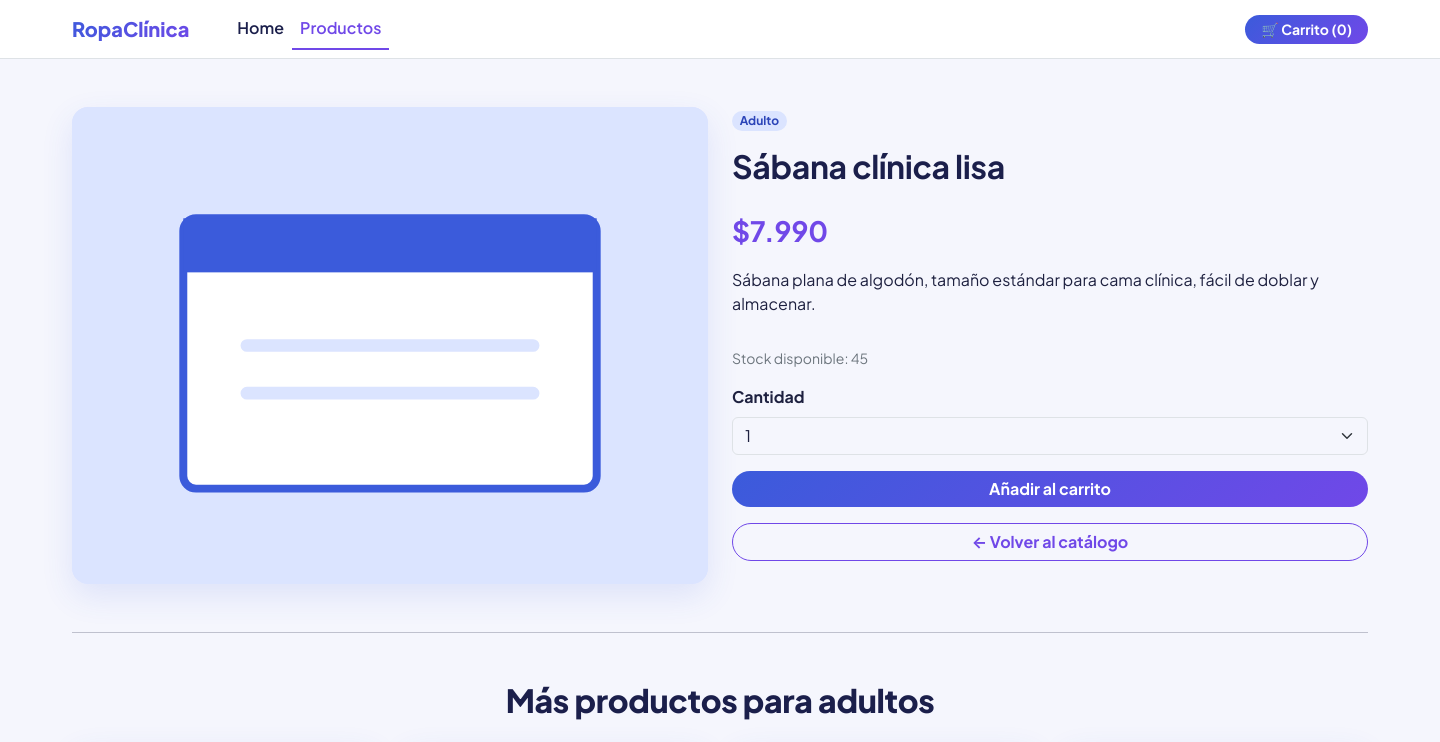
Carrito (estado) › añadir un producto actualiza el contador y el total
This screenshot has width=1440, height=742.
Click the button "Añadir al carrito".
click(1050, 489)  # box x1=732 y1=471 x2=1368 y2=507
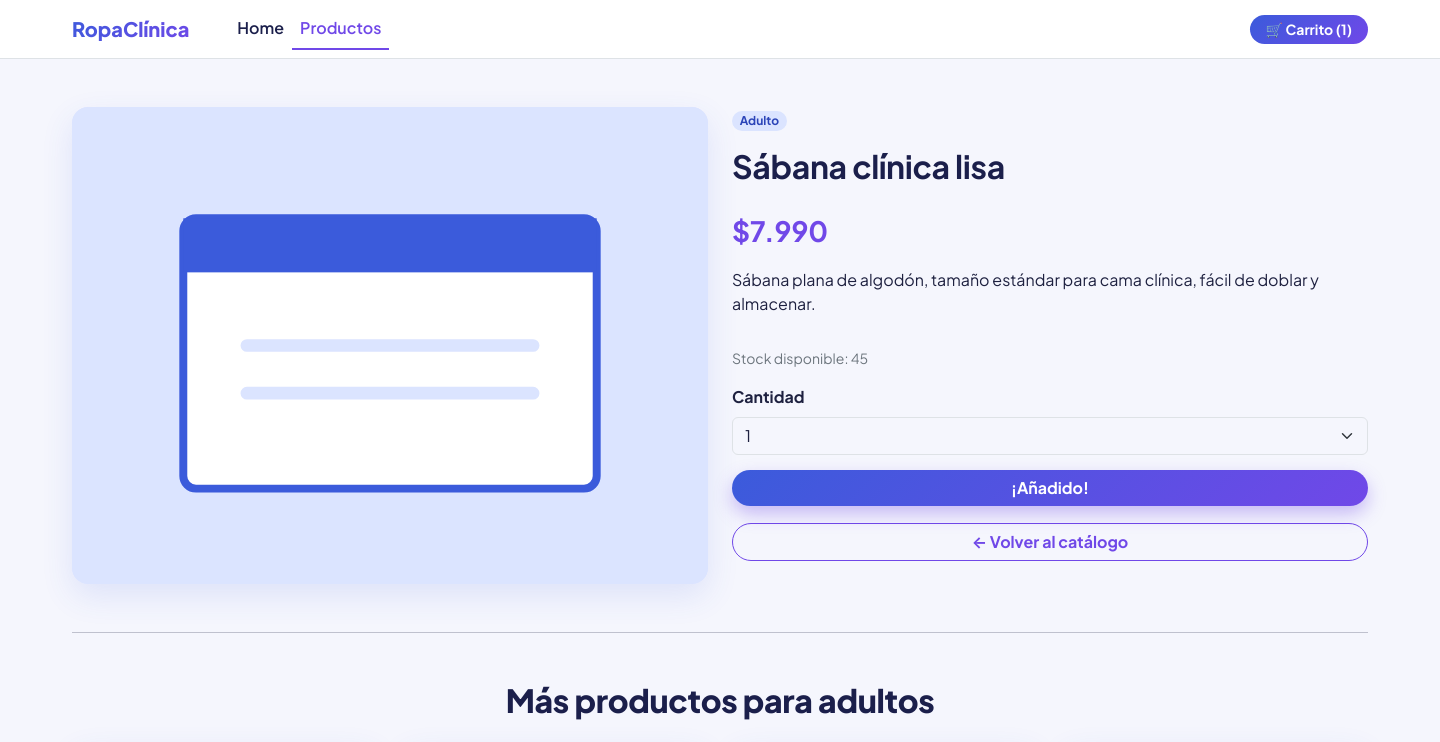
Result: the text with test id "contador" reads "1" at x1=1341 y1=20 x2=1347 y2=38
Click the link "🛒 Carrito (1)".
click(1309, 29)  # box x1=1250 y1=14 x2=1368 y2=44
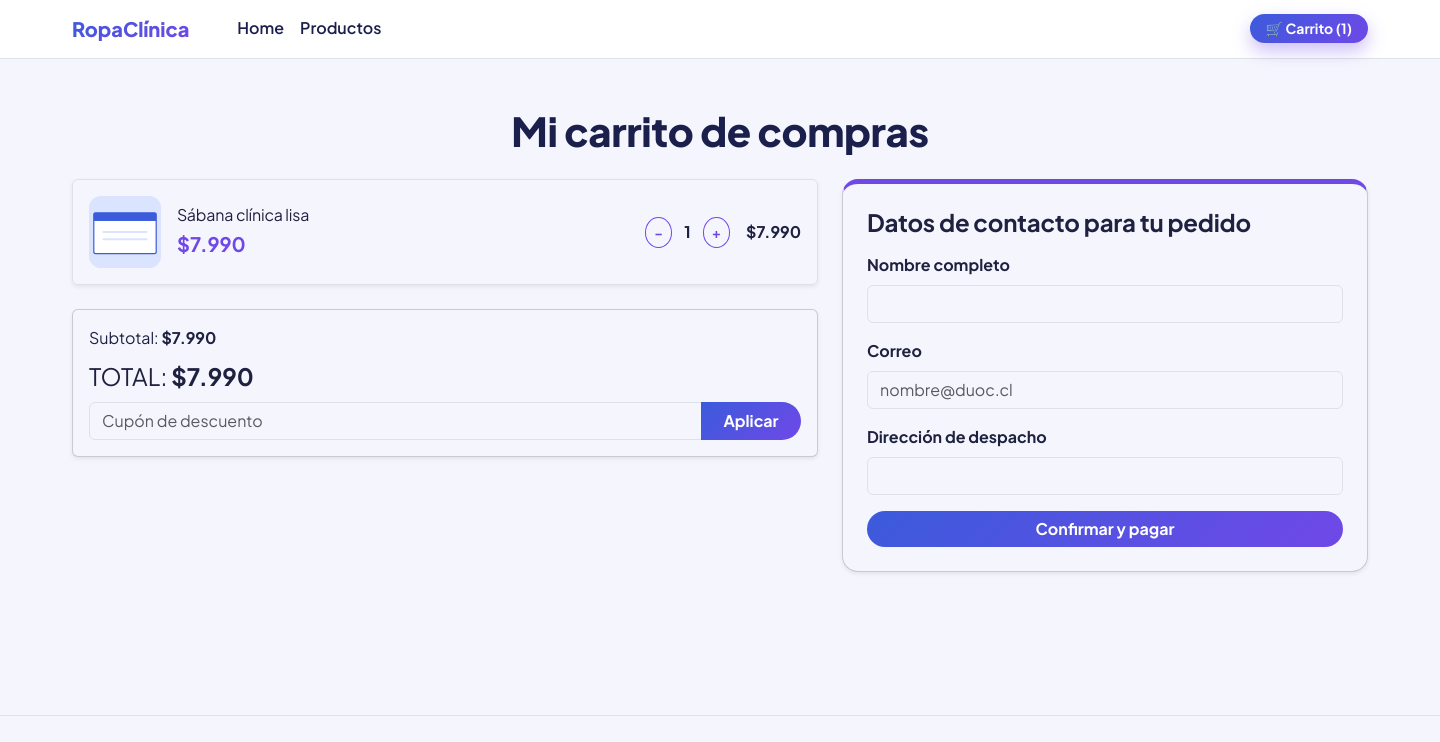
Result: the text with test id "total" reads "$7.990" at x1=171 y1=361 x2=254 y2=391
